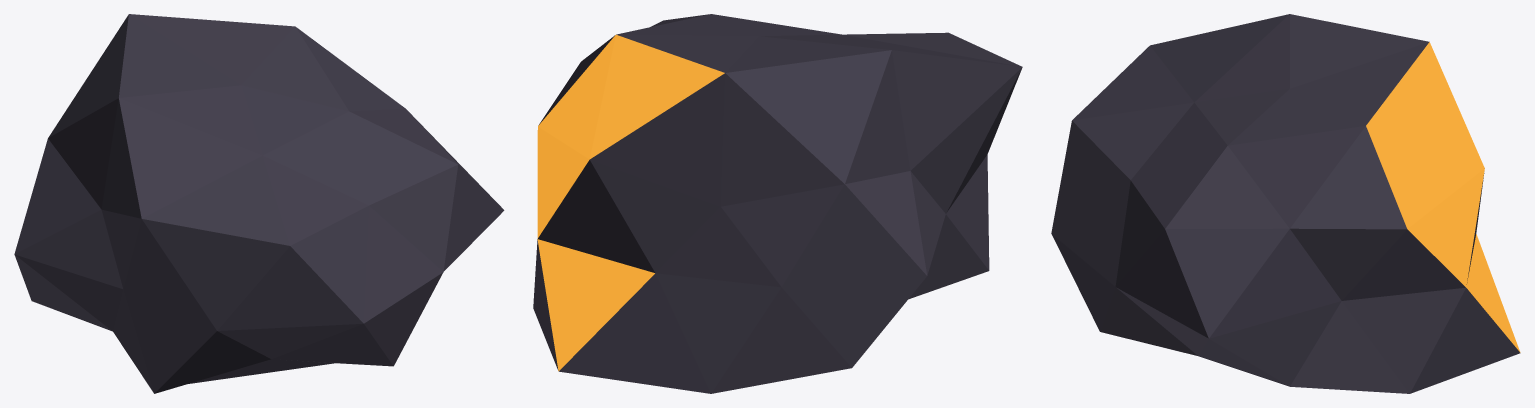
Rendered from Ore_A.fbx.
3 views of the same model, side by side, from view 1: azimuth 30°, elevation 25°; view 2: azimuth 150°, elevation 25°; view 3: azimuth 270°, elevation 25° (orthographic). The views are drawn at different scales.
Parts seen in each view (by area): view 1: Ore; view 2: Ore; view 3: Ore.
Boxes of the visible parts, x1,y1,x2,y2 form: Ore: (14,14,504,393); Ore: (533,14,1022,393); Ore: (1051,14,1520,393).
Bounding box in the file's own units: 0.3545 × 0.3589 × 0.222.
